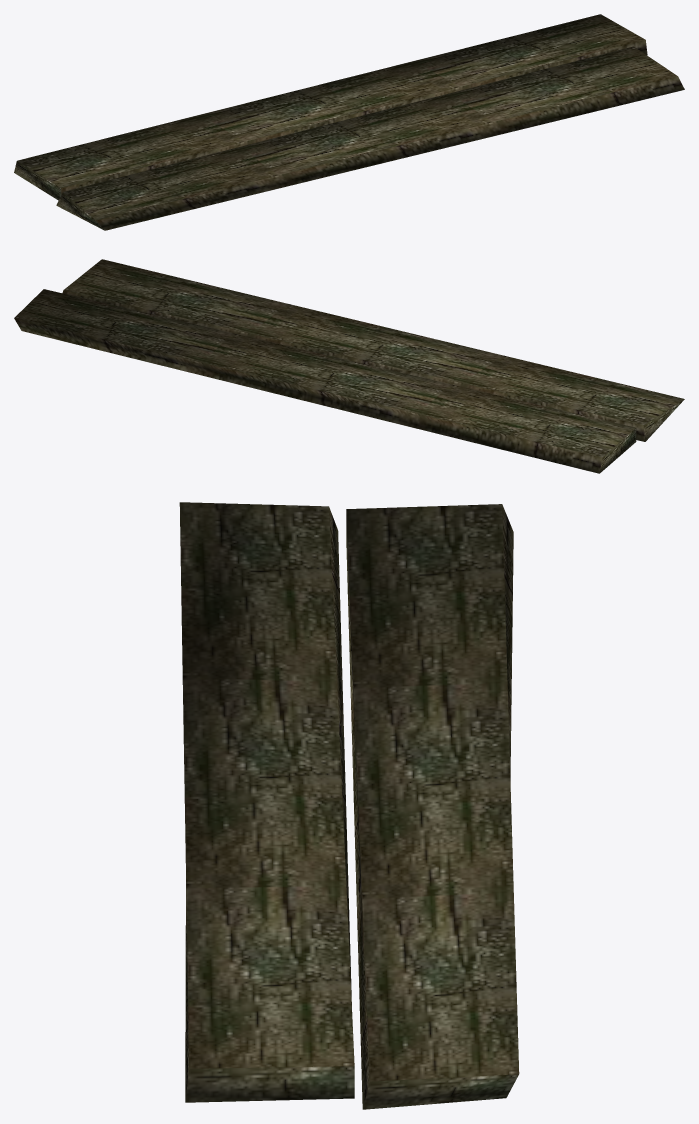
Rendered from ADDON_MISC_BOHLEN_01.glb.
The picture shows the model from 3 angles, top to bottom: view 1: azimuth 30°, elevation 25°; view 2: azimuth 150°, elevation 25°; view 3: azimuth 270°, elevation 25°; orthographic projection. The views are drawn at different scales.
Visible parts, largest first — view 1: Mesh; view 2: Mesh; view 3: Mesh.
Part boxes in pixels (x1=…): Mesh: x1=14, y1=14, x2=684, y2=230; Mesh: x1=14, y1=259, x2=684, y2=473; Mesh: x1=179, y1=502, x2=519, y2=1109.
Bounding box in the file's own units: 3.3 × 0.0749 × 0.8171.
Materials: 1 (1 with a texture image).
